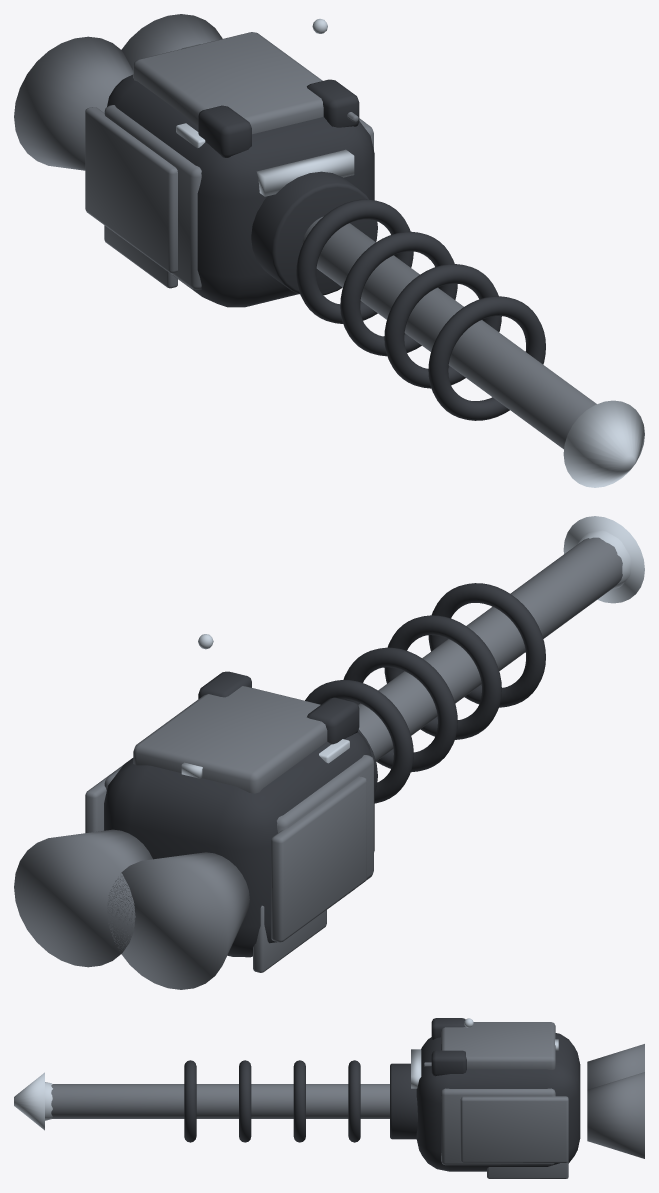
Rendered from weapon_drone_tempest.glb.
3 renders of one model, top to bottom at view 1: azimuth 30°, elevation 25°; view 2: azimuth 150°, elevation 25°; view 3: azimuth 270°, elevation 25°, orthographic. The views are drawn at different scales.
Parts seen in each view (by area): view 1: weapon_drone_tempest; view 2: weapon_drone_tempest; view 3: weapon_drone_tempest.
Boxes of the visible parts, x1=… form: weapon_drone_tempest: x1=14, y1=14, x2=644, y2=487; weapon_drone_tempest: x1=14, y1=516, x2=644, y2=989; weapon_drone_tempest: x1=14, y1=1018, x2=644, y2=1178.
Size of the model in its own units: 0.696 by 0.7692 by 2.85.
